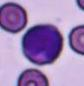L: (21, 24, 63, 66)
